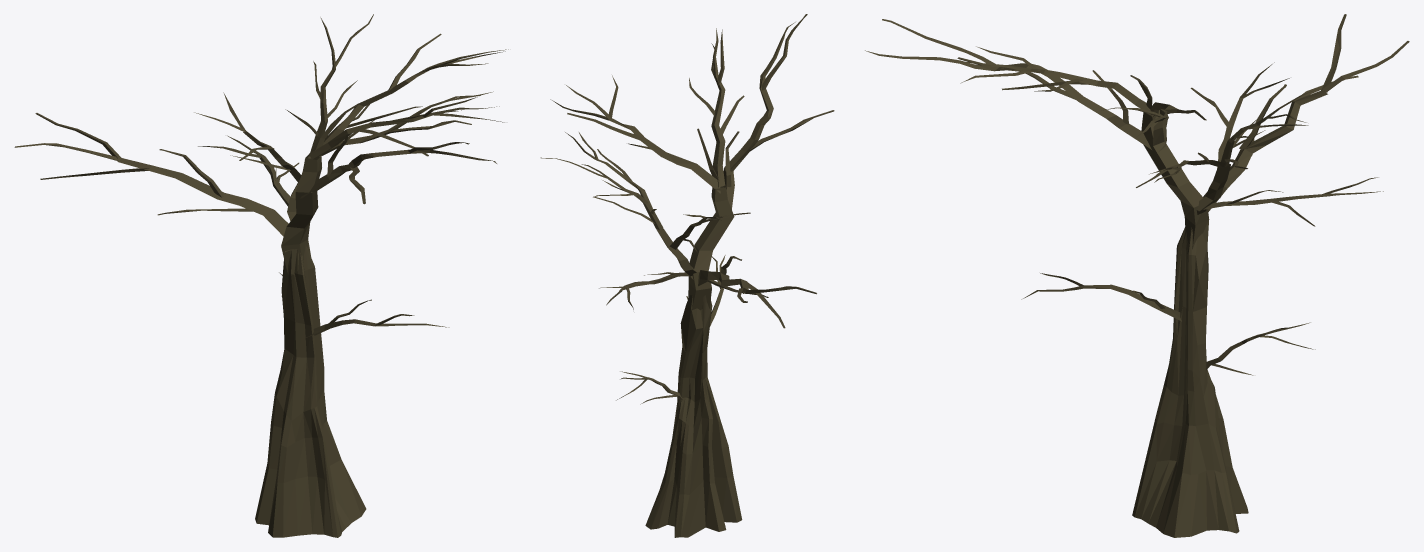
Rendered from ADDON_PLANTS_TREE_02_1713P.OBJ.
3 renders of one model, left to right at view 1: azimuth 30°, elevation 25°; view 2: azimuth 150°, elevation 25°; view 3: azimuth 270°, elevation 25°, orthographic. The views are drawn at different scales.
Parts seen in each view (by area): view 1: ADDON_PLANTS_TREE_02_1713P; view 2: ADDON_PLANTS_TREE_02_1713P; view 3: ADDON_PLANTS_TREE_02_1713P.
Boxes of the visible parts, box(x1,y1,x2,y2) form: ADDON_PLANTS_TREE_02_1713P: box(14, 14, 508, 537); ADDON_PLANTS_TREE_02_1713P: box(540, 14, 834, 537); ADDON_PLANTS_TREE_02_1713P: box(865, 14, 1409, 537).
Bounding box in the file's own units: 47.61 × 54.78 × 53.25.
